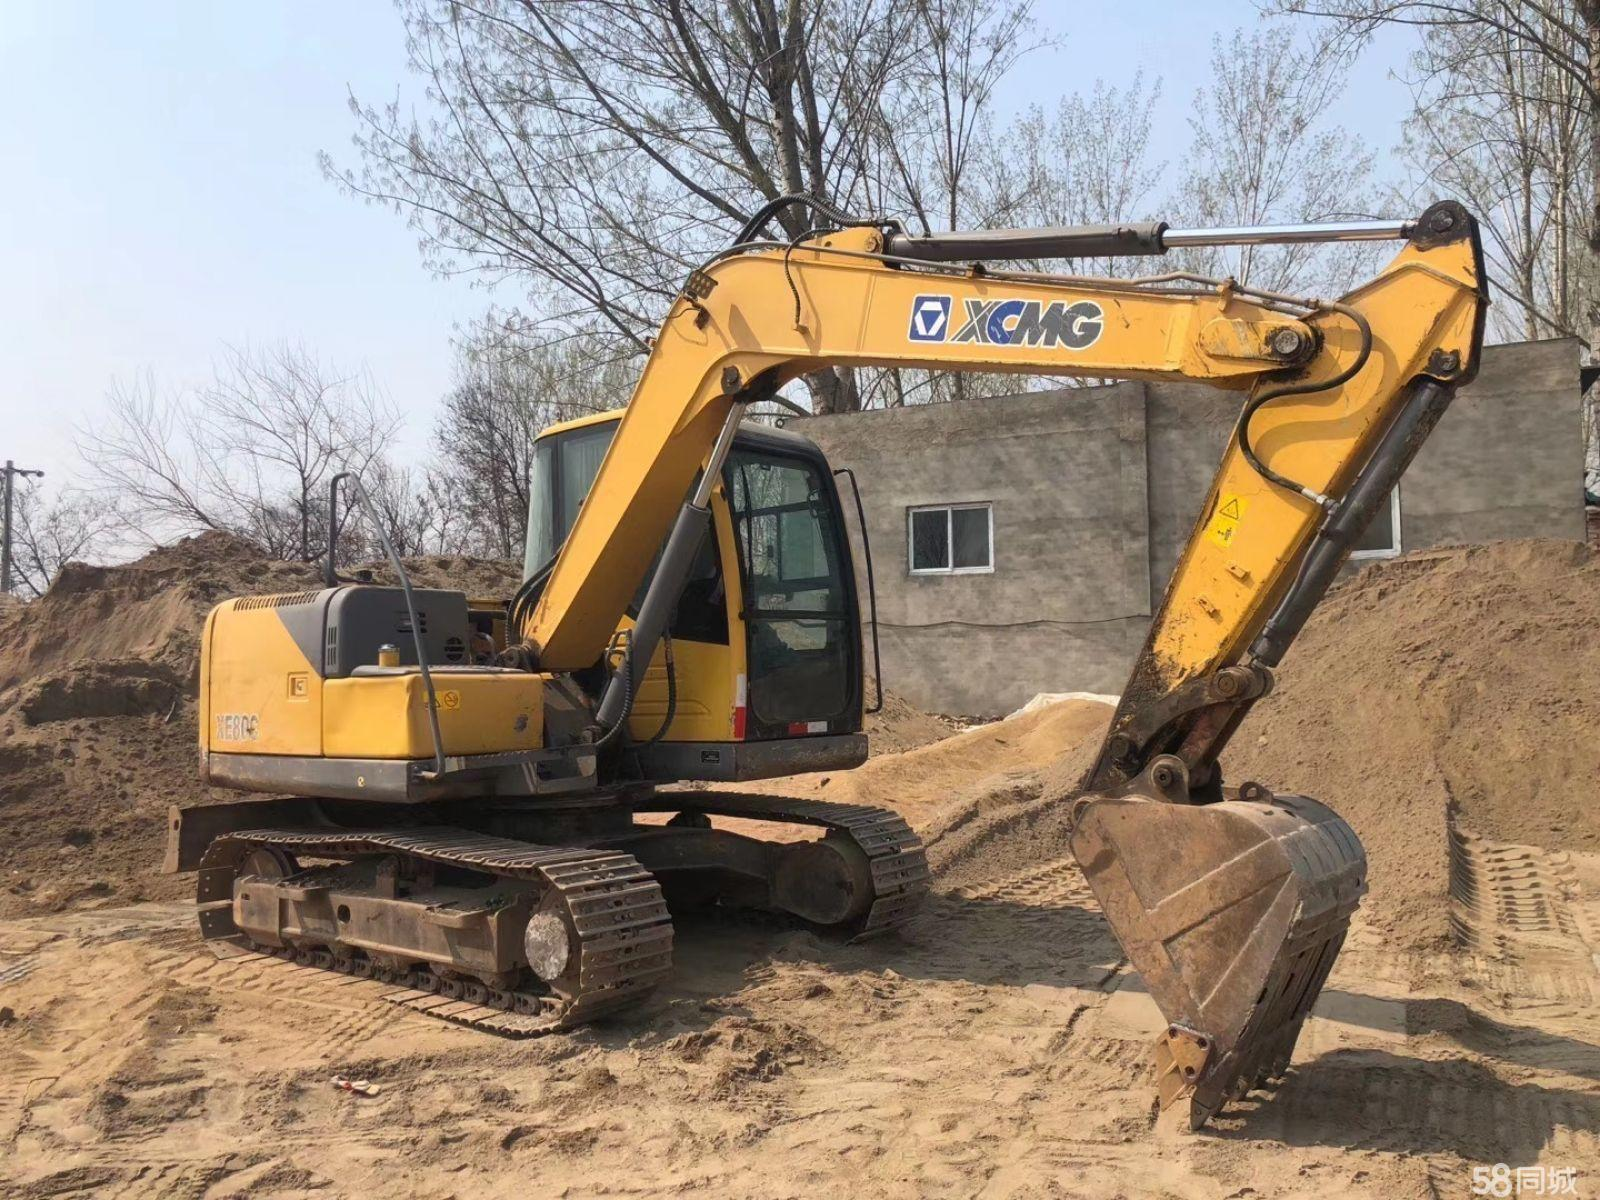excavator: (157, 171, 1526, 1129)
